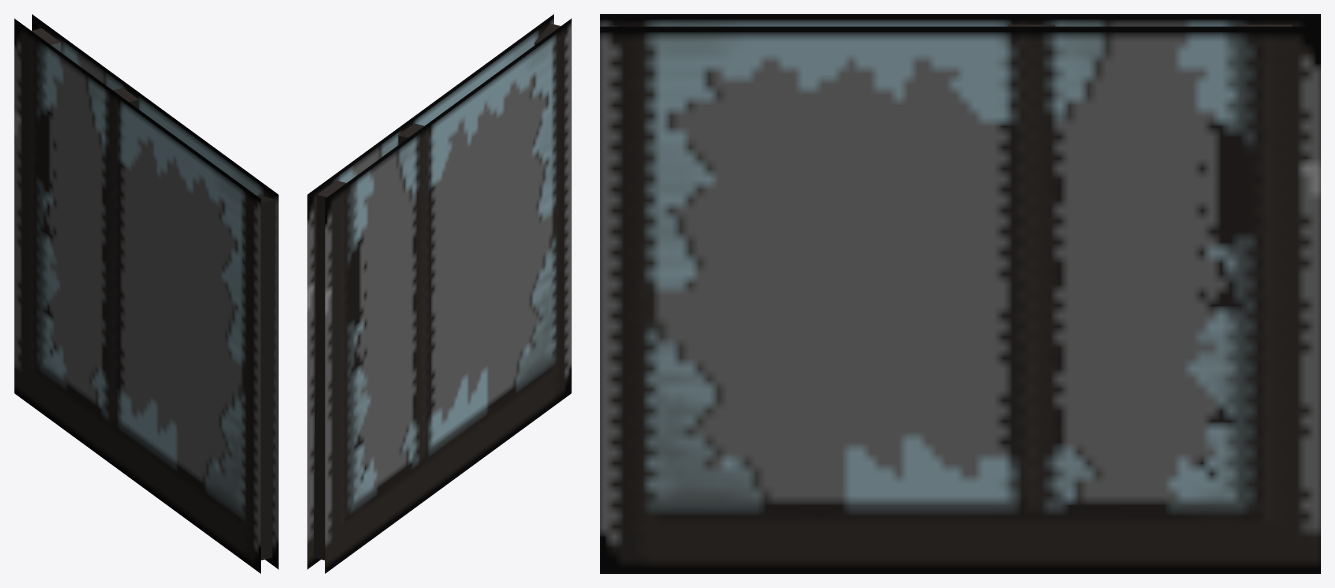
File: pz_native_fixtures_windows_01_53_frame.obj
3 renders of one model, left to right at view 1: azimuth 30°, elevation 25°; view 2: azimuth 150°, elevation 25°; view 3: azimuth 270°, elevation 25°, orthographic. The views are drawn at different scales.
Visible parts, largest first — view 1: pz_native_fixtures_windows_01_53_frame; view 2: pz_native_fixtures_windows_01_53_frame; view 3: pz_native_fixtures_windows_01_53_frame.
Part boxes in pixels (bbox=[...]): pz_native_fixtures_windows_01_53_frame: bbox=[14, 14, 278, 573]; pz_native_fixtures_windows_01_53_frame: bbox=[307, 14, 571, 573]; pz_native_fixtures_windows_01_53_frame: bbox=[600, 14, 1320, 573].
Size of the model in its own units: 0.04 by 0.8125 by 0.9696.
Materials: 1 (1 with a texture image).
